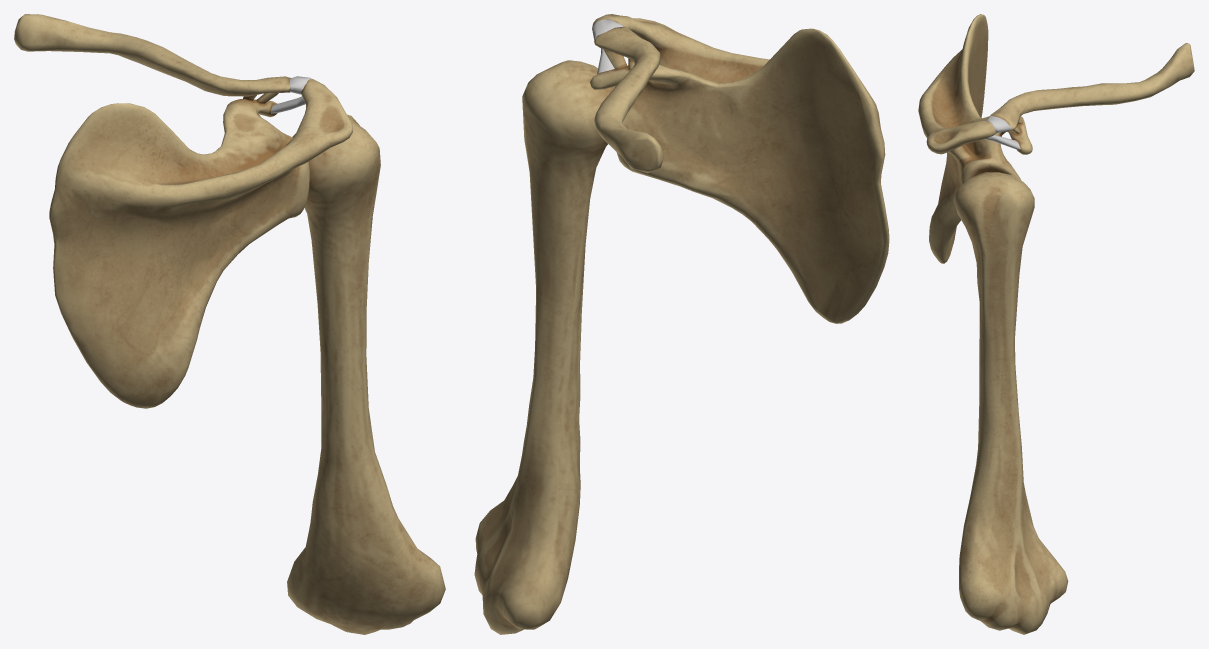
Rendered from shoulder.glb.
The picture shows the model from 3 angles, left to right: view 1: azimuth 30°, elevation 25°; view 2: azimuth 150°, elevation 25°; view 3: azimuth 270°, elevation 25°; orthographic projection. The views are drawn at different scales.
Visible parts, largest first — view 1: pCube10; view 2: pCube10; view 3: pCube10.
Boxes of the visible parts, x1,y1,x2,y2 form: pCube10: [14, 14, 445, 634]; pCube10: [474, 14, 889, 634]; pCube10: [918, 14, 1194, 634].
Bounding box in the file's own units: 0.3097 × 0.4695 × 0.2321.
Materials: 1 (1 with a texture image).
